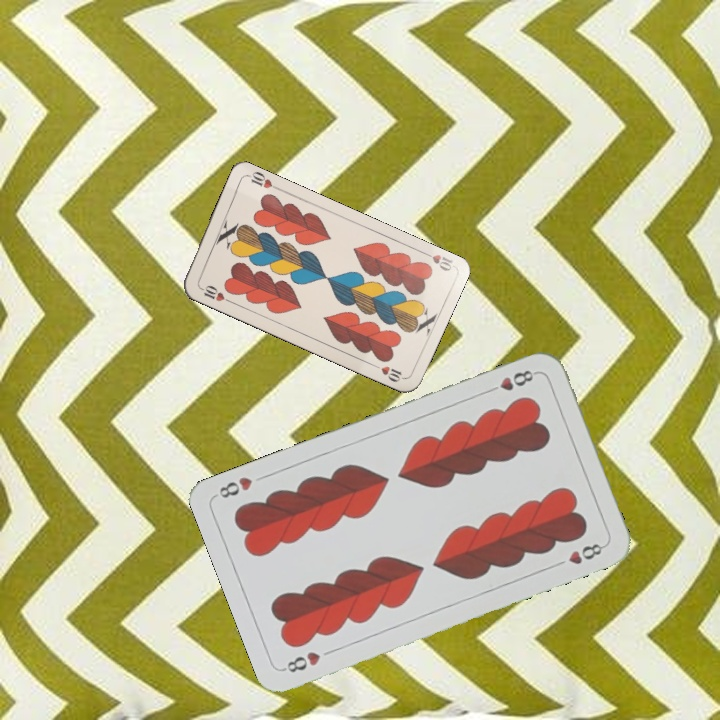H10: (417, 247, 455, 274), (195, 281, 233, 305)
H8: (483, 366, 540, 396), (280, 647, 323, 676)
